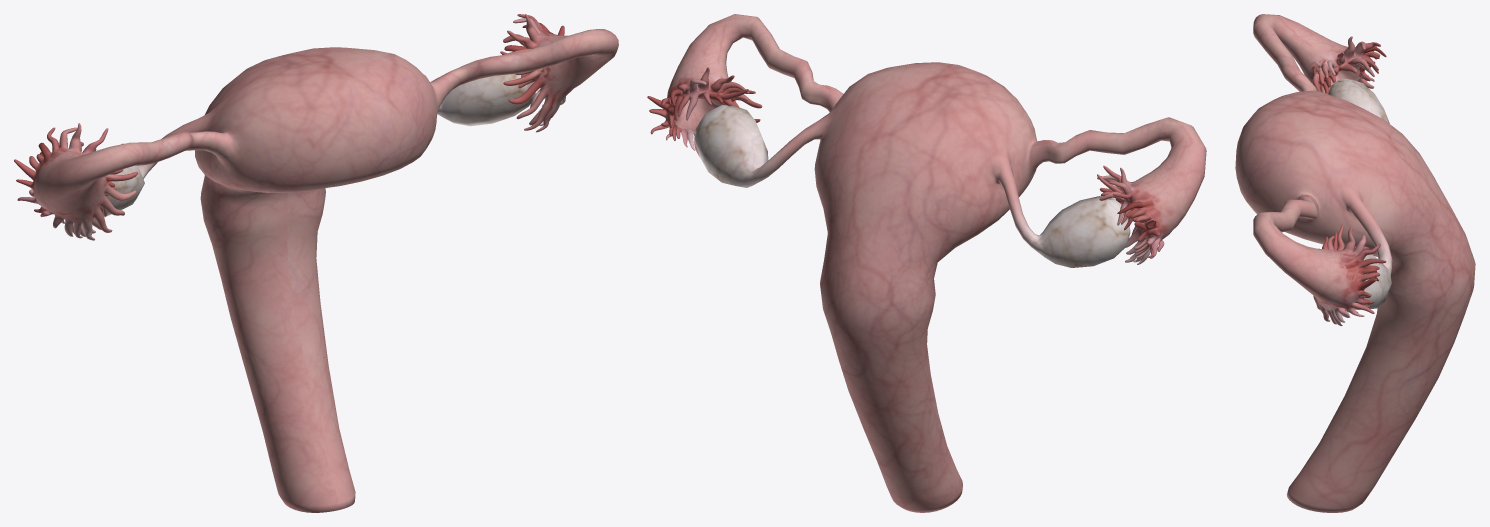
File: A Female_Reproductive_System.fbx
3 renders of one model, left to right at view 1: azimuth 30°, elevation 25°; view 2: azimuth 150°, elevation 25°; view 3: azimuth 270°, elevation 25°, orthographic. The views are drawn at different scales.
Visible parts, largest first — view 1: Uterus, Vegina, Right_Fimbriae, Left_Ovary, Left_Fimbriae, Right_Ampulla, Right_Infundibulum, Left_Ampulla, Left_Isthmus, Left_Infundibulum, Right_Isthmus, Right_Ovary; view 2: Uterus, Vegina, Right_Ovary, Left_Ovary, Left_Fimbriae, Right_Fimbriae, Right_Infundibulum, Right_Ampulla, Left_Ampulla, Left_Infundibulum, Right_Isthmus, Left_Isthmus (+2 smaller); view 3: Uterus, Vegina, Left_Infundibulum, Left_Fimbriae, Right_Fimbriae, Left_Ampulla, Right_Infundibulum, Right_Ampulla, Left_Ovarian_Ligament, Right_Ovary, Left_Ovary, Right_Isthmus (+1 smaller).
Boxes of the visible parts, x1,y1,x2,y2 form: Uterus: (195, 47, 437, 207); Vegina: (200, 175, 355, 512); Right_Fimbriae: (14, 123, 138, 240); Left_Ovary: (442, 74, 535, 126); Left_Fimbriae: (500, 14, 565, 132); Right_Ampulla: (59, 142, 158, 190); Right_Infundibulum: (34, 152, 103, 217); Left_Ampulla: (528, 29, 618, 70); Left_Isthmus: (441, 50, 533, 94); Left_Infundibulum: (541, 33, 612, 98); Right_Isthmus: (152, 131, 219, 162); Right_Ovary: (100, 165, 144, 217); Uterus: (814, 62, 1036, 281); Vegina: (820, 259, 962, 512); Right_Ovary: (1037, 196, 1130, 267); Left_Ovary: (695, 104, 768, 187); Left_Fimbriae: (647, 67, 762, 156); Right_Fimbriae: (1097, 165, 1170, 264); Right_Infundibulum: (1134, 156, 1204, 233); Right_Ampulla: (1121, 117, 1206, 175); Left_Ampulla: (691, 14, 779, 65); Left_Infundibulum: (667, 41, 728, 97); Right_Isthmus: (1041, 130, 1123, 163); Left_Isthmus: (767, 48, 835, 108); Uterus: (1235, 90, 1466, 276); Vegina: (1286, 237, 1475, 512); Left_Infundibulum: (1285, 242, 1354, 306); Left_Fimbriae: (1313, 224, 1386, 326); Right_Fimbriae: (1307, 36, 1386, 93); Left_Ampulla: (1253, 211, 1298, 272); Right_Infundibulum: (1284, 23, 1347, 77); Right_Ampulla: (1253, 14, 1298, 63); Left_Ovarian_Ligament: (1344, 190, 1392, 278); Right_Ovary: (1328, 78, 1389, 123); Left_Ovary: (1355, 254, 1391, 309); Right_Isthmus: (1276, 51, 1317, 91).
Bounding box in the file's own units: 11.36 × 8.74 × 4.83.
1 material, 1 textured.
